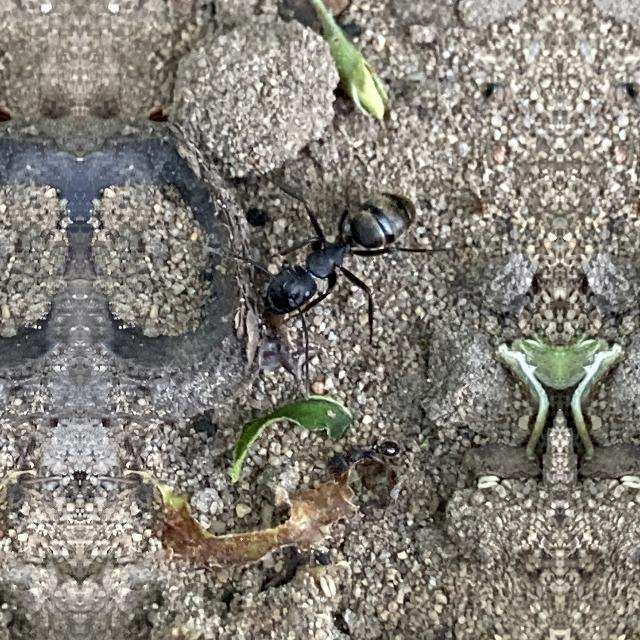Camponotus: (245, 176, 441, 342)
